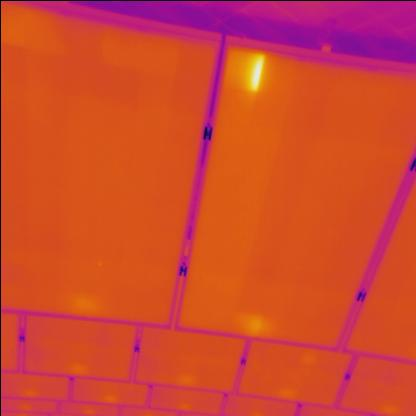hotspot: (221, 44, 266, 95)
